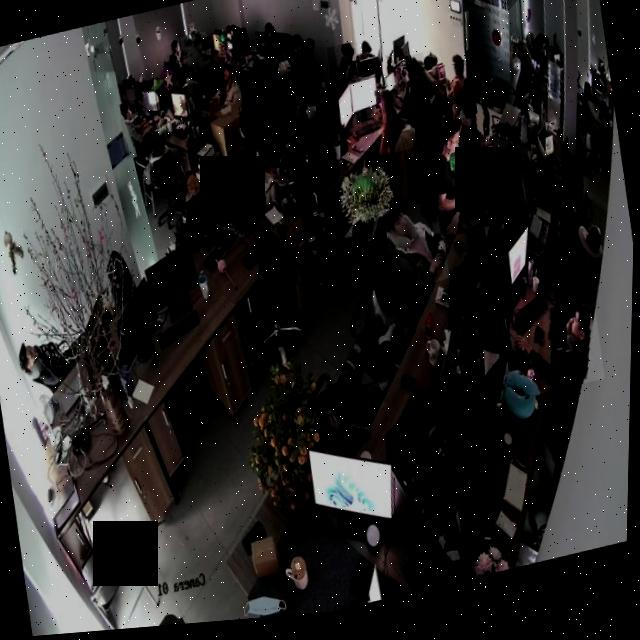person: (508, 305, 608, 409), (424, 120, 489, 247), (383, 206, 452, 300), (406, 51, 473, 117), (450, 106, 497, 187), (367, 90, 415, 164), (389, 59, 433, 128), (205, 61, 246, 125), (118, 99, 156, 162), (180, 35, 214, 87), (327, 47, 363, 93), (166, 40, 193, 91)
